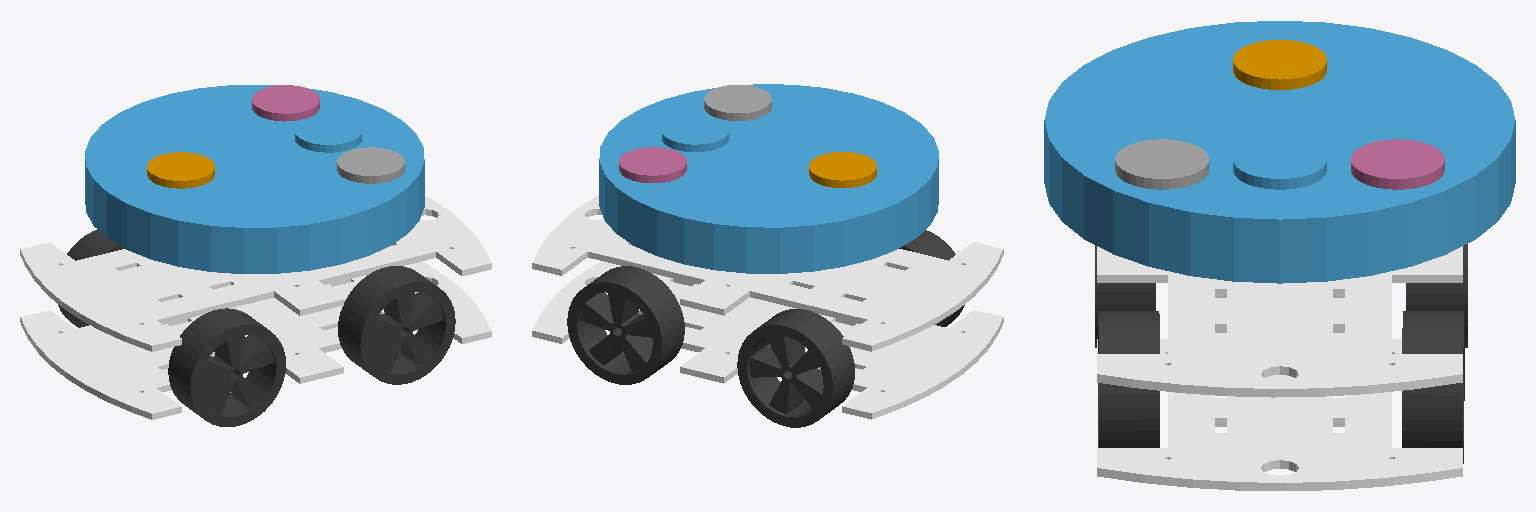
The robot description file, URDF, robot "4wd_gazebo2":
<?xml version="1.0"?>

<robot
  name="4wd_gazebo2">
  <link
    name="base_link">
    <inertial>
      <origin
        xyz="3.8723E-07 -3.7492E-08 -0.024"
        rpy="0 0 0" />
      <mass
        value="0.22645" />
      <inertia
        ixx="0.00040116"
        ixy="1.2926E-19"
        ixz="-2.1963E-19"
        iyy="0.0014173"
        iyz="-3.396E-12"
        izz="0.0015987" />
    </inertial>
    <visual>
      <origin
        xyz="0 0 0"
        rpy="0 0 0" />
      <geometry>
        <mesh
          filename="package://4wd_gazebo2/meshes/base_link.STL" />
      </geometry>
      <material
        name="">
        <color
          rgba="1 1 1 0" />
      </material>
    </visual>
    <collision>
      <origin
        xyz="0 0 0"
        rpy="0 0 0" />
      <geometry>
        <mesh
          filename="package://4wd_gazebo2/meshes/base_link.STL" />
      </geometry>
    </collision>
  </link>


  <link
    name="ir_fornt">
    <visual>
      <origin
        xyz="0 0 0"
        rpy="0 0 0" />
      <geometry>
        <cylinder radius="0.02" length="0.04"/>
      </geometry>
      <material name="red"/>
    </visual>
  </link>

  <joint
    name="ir_fornt_joint"
    type="fixed">
    <origin
      xyz="0.05 0 0.05"

      rpy="0 0 0" />
    <parent
      link="base_link" />
    <child

      link="ir_fornt" />
    <axis
      xyz="0 0 0" />
  </joint>






  <link
    name="FrontLeftWheel">
    <inertial>
      <origin
        xyz="0.0082763 -3.4694E-18 7.8759E-05"
        rpy="0 0 0" />
      <mass
        value="0.051031" />
      <inertia
        ixx="3.3072E-05"
        ixy="1.3377E-21"
        ixz="1.3437E-07"
        iyy="1.8952E-05"
        iyz="-1.2565E-21"
        izz="1.8953E-05" />
    </inertial>
    <visual>
      <origin
        xyz="0 0 0"
        rpy="0 0 0" />
      <geometry>
        <mesh
          filename="package://4wd_gazebo2/meshes/FrontLeftWheel.STL" />
      </geometry>
      <material
        name="">
        <color
          rgba="0.29412 0.29412 0.29412 1" />
      </material>
    </visual>
    <collision>
      <origin
        xyz="0 0 0"
        rpy="0 0 0" />
      <geometry>
        <mesh
          filename="package://4wd_gazebo2/meshes/FrontLeftWheel.STL" />
      </geometry>
    </collision>
  </link>
  <joint
    name="FrontLeftJoint"
    type="continuous">
    <origin
      xyz="0.059411 0.05681 -0.0325"
      rpy="1.5708 3.1329E-17 1.5708" />
    <parent
      link="base_link" />
    <child
      link="FrontLeftWheel" />
    <axis
      xyz="0.99995 0 0.0095158" />
  </joint>
  <link
    name="BackLeftWheel">
    <inertial>
      <origin
        xyz="0.0073659 1.3878E-17 -1.7387E-05"
        rpy="0 0 0" />
      <mass
        value="0.051031" />
      <inertia
        ixx="3.3073E-05"
        ixy="4.4232E-22"
        ixz="-3.3333E-08"
        iyy="1.8952E-05"
        iyz="-1.3666E-21"
        izz="1.8952E-05" />
    </inertial>
    <visual>
      <origin
        xyz="0 0 0"
        rpy="0 0 0" />
      <geometry>
        <mesh
          filename="package://4wd_gazebo2/meshes/BackLeftWheel.STL" />
      </geometry>
      <material
        name="">
        <color
          rgba="0.29412 0.29412 0.29412 1" />
      </material>
    </visual>
    <collision>
      <origin
        xyz="0 0 0"
        rpy="0 0 0" />
      <geometry>
        <mesh
          filename="package://4wd_gazebo2/meshes/BackLeftWheel.STL" />
      </geometry>
    </collision>
  </link>
  <joint
    name="BackLeftJoint"
    type="continuous">
    <origin
      xyz="-0.056785 0.059242 -0.0325"
      rpy="1.5708 3.1329E-17 1.5708" />
    <parent
      link="base_link" />
    <child
      link="BackLeftWheel" />
    <axis
      xyz="1 0 -0.0023605" />
  </joint>
  <link
    name="FrontRightWheel">
    <inertial>
      <origin
        xyz="-0.0081291 8.6736E-18 7.7011E-05"
        rpy="0 0 0" />
      <mass
        value="0.051031" />
      <inertia
        ixx="3.3072E-05"
        ixy="6.8082E-22"
        ixz="-1.3376E-07"
        iyy="1.8952E-05"
        iyz="-4.2618E-22"
        izz="1.8953E-05" />
    </inertial>
    <visual>
      <origin
        xyz="0 0 0"
        rpy="0 0 0" />
      <geometry>
        <mesh
          filename="package://4wd_gazebo2/meshes/FrontRightWheel.STL" />
      </geometry>
      <material
        name="">
        <color
          rgba="0.29412 0.29412 0.29412 1" />
      </material>
    </visual>
    <collision>
      <origin
        xyz="0 0 0"
        rpy="0 0 0" />
      <geometry>
        <mesh
          filename="package://4wd_gazebo2/meshes/FrontRightWheel.STL" />
      </geometry>
    </collision>
  </link>
  <joint
    name="FrontRightJoint"
    type="continuous">
    <origin
      xyz="0.059202 -0.055992 -0.0325"
      rpy="1.5708 3.1329E-17 1.5708" />
    <parent
      link="base_link" />
    <child
      link="FrontRightWheel" />
    <axis
      xyz="0.99996 0 -0.009473" />
  </joint>
  <link
    name="BackRightWheel">
    <inertial>
      <origin
        xyz="-0.0087527 3.4694E-18 1.0709E-05"
        rpy="0 0 0" />
      <mass
        value="0.051031" />
      <inertia
        ixx="3.3073E-05"
        ixy="6.9859E-22"
        ixz="-1.7277E-08"
        iyy="1.8952E-05"
        iyz="-6.4979E-22"
        izz="1.8952E-05" />
    </inertial>
    <visual>
      <origin
        xyz="0 0 0"
        rpy="0 0 0" />
      <geometry>
        <mesh
          filename="package://4wd_gazebo2/meshes/BackRightWheel.STL" />
      </geometry>
      <material
        name="">
        <color
          rgba="0.29412 0.29412 0.29412 1" />
      </material>
    </visual>
    <collision>
      <origin
        xyz="0 0 0"
        rpy="0 0 0" />
      <geometry>
        <mesh
          filename="package://4wd_gazebo2/meshes/BackRightWheel.STL" />
      </geometry>
    </collision>
  </link>
  <joint
    name="BackRightJoint"
    type="continuous">
    <origin
      xyz="-0.056551 -0.056774 -0.0325"
      rpy="1.5708 3.1329E-17 1.5708" />
    <parent
      link="base_link" />
    <child
      link="BackRightWheel" />
    <axis
      xyz="1 0 -0.0012235" />
  </joint>
  
  
  <link
    name="ir_left">
    <visual>
      <origin
        xyz="0 0 0"
        rpy="0 0 0.3926875" />
      <geometry>
        <cylinder radius="0.02" length="0.04"/>
      </geometry>
      <material name="red"/>
    </visual>
  </link>

  <joint
    name="ir_left_joint"
    type="fixed">
    <origin
      xyz="0.05 0.05 0.05"

      rpy="0 0 0.3926875" />
    <parent
      link="base_link" />
    <child

      link="ir_left" />
    <axis
      xyz="0 0 0" />
  </joint>
  
  
  <link
    name="ir_right">
    <visual>
      <origin
        xyz="0 0 0"
        rpy="0 0 -0.3926875" />
      <geometry>
        <cylinder radius="0.02" length="0.04"/>
      </geometry>
      <material name="red"/>
    </visual>
  </link>

  <joint
    name="ir_right_joint"
    type="fixed">
    <origin
      xyz="0.05 -0.05 0.05"

      rpy="0 0 -0.3926875" />
    <parent
      link="base_link" />
    <child

      link="ir_right" />
    <axis
      xyz="0 0 0" />
  </joint>
  
  
  <link
    name="ir_back">
    <visual>
      <origin
        xyz="0 0 0"
        rpy="0 0 3.14159" />
      <geometry>
        <cylinder radius="0.02" length="0.04"/>
      </geometry>
      <material name="red"/>
    </visual>
  </link>

  <joint
    name="ir_back_joint"
    type="fixed">
    <origin
      xyz="-0.05 0 0.05"

      rpy="0 0 3.14159" />
    <parent
      link="base_link" />
    <child

      link="ir_back" />
    <axis
      xyz="0 0 0" />
  </joint>
  
  
  <link
    name="laser_frame">
    <visual>
      <origin
        xyz="0 0 0"
        rpy="0 0 0" />
      <geometry>
        <cylinder radius="0.1" length="0.03"/>
      </geometry>
      <material name="red"/>
    </visual>
  </link>

  <joint
    name="laser_frame_joint"
    type="fixed">
    <origin
      xyz="0 0 0.05"

      rpy="0 0 0" />
    <parent
      link="base_link" />
    <child

      link="laser_frame" />
    <axis
      xyz="0 0 0" />
  </joint>
  
  

        <gazebo>
	  <plugin name="skid_steer_drive_controller" filename="libgazebo_ros_skid_steer_drive.so">
	    <updateRate>100.0</updateRate>
	    <robotNamespace></robotNamespace>
	    <leftFrontJoint>FrontLeftJoint</leftFrontJoint>
	    <rightFrontJoint>FrontRightJoint</rightFrontJoint>
	    <leftRearJoint>BackLeftJoint</leftRearJoint>
	    <rightRearJoint>BackRightJoint</rightRearJoint>
	    <wheelSeparation>0.4</wheelSeparation>
	    <wheelDiameter>0.215</wheelDiameter>
	    <robotBaseFrame>base_link</robotBaseFrame>
	    <torque>20</torque>
	    <topicName>cmd_vel</topicName>
	    <broadcastTF>true</broadcastTF>
	  </plugin>
	</gazebo>



<!-- Loading gazebo sensor (laser scanner) plugin and connecting it to the laser scanner link -->
   <gazebo reference="ir_fornt">        
   <sensor type="ray" name="ir_front_sensor">
      <pose>0 0 0 0 0 0</pose>
      <update_rate>50</update_rate>
      <ray>
         <scan>
            <horizontal>
               <samples>1</samples>
               <resolution>1.0</resolution>
               <min_angle>-0.01</min_angle>
               <max_angle>0.01</max_angle>
            </horizontal>
            <vertical>
               <samples>1</samples>
               <resolution>1</resolution>
               <min_angle>-0.01</min_angle>
               <max_angle>0.01</max_angle>
            </vertical>
         </scan>
         <range>
            <min>0.02</min>
            <max>0.3</max>
            <resolution>0.01</resolution>
         </range>
      </ray>
      <plugin filename="libgazebo_ros_range.so" name="gazebo_ros_range">
         <gaussianNoise>0.005</gaussianNoise>
         <alwaysOn>true</alwaysOn>
         <updateRate>5</updateRate>
         <topicName>/arduino/sensor/ir_front</topicName>
         <frameName>ir_fornt</frameName>
         <visualize>true</visualize>
         <radiation>ultrasound</radiation>
         <fov>0.02</fov>
      </plugin>
   </sensor>            
</gazebo>


<gazebo reference="ir_left">        
   <sensor type="ray" name="ir_left_sensor">
      <pose>0 0 0 0 0 0</pose>
      <update_rate>50</update_rate>
      <ray>
         <scan>
            <horizontal>
               <samples>1</samples>
               <resolution>1.0</resolution>
               <min_angle>-0.01</min_angle>
               <max_angle>0.01</max_angle>
            </horizontal>
            <vertical>
               <samples>1</samples>
               <resolution>1</resolution>
               <min_angle>-0.01</min_angle>
               <max_angle>0.01</max_angle>
            </vertical>
         </scan>
         <range>
            <min>0.02</min>
            <max>0.3</max>
            <resolution>0.01</resolution>
         </range>
      </ray>
      <plugin filename="libgazebo_ros_range.so" name="gazebo_ros_range">
         <gaussianNoise>0.005</gaussianNoise>
         <alwaysOn>true</alwaysOn>
         <updateRate>5</updateRate>
         <topicName>/arduino/sensor/ir_left</topicName>
         <frameName>ir_left</frameName>
         <visualize>true</visualize>
         <radiation>ultrasound</radiation>
         <fov>0.02</fov>
      </plugin>
   </sensor>            
</gazebo>



<gazebo reference="ir_right">        
   <sensor type="ray" name="ir_right_sensor">
      <pose>0 0 0 0 0 0</pose>
      <update_rate>50</update_rate>
      <ray>
         <scan>
            <horizontal>
               <samples>1</samples>
               <resolution>1.0</resolution>
               <min_angle>-0.01</min_angle>
               <max_angle>0.01</max_angle>
            </horizontal>
            <vertical>
               <samples>1</samples>
               <resolution>1</resolution>
               <min_angle>-0.01</min_angle>
               <max_angle>0.01</max_angle>
            </vertical>
         </scan>
         <range>
            <min>0.02</min>
            <max>0.3</max>
            <resolution>0.01</resolution>
         </range>
      </ray>
      <plugin filename="libgazebo_ros_range.so" name="gazebo_ros_range">
         <gaussianNoise>0.005</gaussianNoise>
         <alwaysOn>true</alwaysOn>
         <updateRate>5</updateRate>
         <topicName>/arduino/sensor/ir_right</topicName>
         <frameName>ir_right</frameName>
         <visualize>true</visualize>
         <radiation>ultrasound</radiation>
         <fov>0.02</fov>
      </plugin>
   </sensor>            
</gazebo>



<gazebo reference="ir_back">        
   <sensor type="ray" name="ir_back_sensor">
      <pose>0 0 0 0 0 0</pose>
      <update_rate>50</update_rate>
      <ray>
         <scan>
            <horizontal>
               <samples>1</samples>
               <resolution>1.0</resolution>
               <min_angle>-0.01</min_angle>
               <max_angle>0.01</max_angle>
            </horizontal>
            <vertical>
               <samples>1</samples>
               <resolution>1</resolution>
               <min_angle>-0.01</min_angle>
               <max_angle>0.01</max_angle>
            </vertical>
         </scan>
         <range>
            <min>0.02</min>
            <max>0.3</max>
            <resolution>0.01</resolution>
         </range>
      </ray>
      <plugin filename="libgazebo_ros_range.so" name="gazebo_ros_range">
         <gaussianNoise>0.005</gaussianNoise>
         <alwaysOn>true</alwaysOn>
         <updateRate>5</updateRate>
         <topicName>/arduino/sensor/ir_back</topicName>
         <frameName>ir_back</frameName>
         <visualize>true</visualize>
         <radiation>ultrasound</radiation>
         <fov>0.02</fov>
      </plugin>
   </sensor>            
</gazebo>

  
</robot>

--- Facts derived from the render (not from the file) ---
Views: 3 orthographic renders of the robot side by side, from view 1: azimuth 30°, elevation 25°; view 2: azimuth 150°, elevation 25°; view 3: azimuth 270°, elevation 25°.
Model 4wd_gazebo2 with 10 links and 9 joints (4 continuous, 5 fixed), rooted at base_link, posed every joint at zero.
Visible links, largest first — view 1: laser_frame, base_link, FrontRightWheel, BackRightWheel, ir_right, ir_back, ir_left, ir_fornt, BackLeftWheel; view 2: laser_frame, base_link, FrontLeftWheel, BackLeftWheel, ir_right, ir_back, ir_left, ir_fornt, BackRightWheel; view 3: laser_frame, base_link, FrontLeftWheel, FrontRightWheel, ir_fornt, ir_back, ir_left, ir_right, BackLeftWheel, BackRightWheel.
Link boxes in pixels (bbox=[...]): laser_frame: bbox=[85, 85, 424, 273]; base_link: bbox=[20, 196, 491, 419]; FrontRightWheel: bbox=[338, 266, 455, 384]; BackRightWheel: bbox=[168, 308, 285, 426]; ir_right: bbox=[337, 147, 404, 183]; ir_back: bbox=[147, 152, 214, 188]; ir_left: bbox=[252, 85, 319, 121]; ir_fornt: bbox=[295, 116, 361, 152]; BackLeftWheel: bbox=[58, 229, 123, 327]; laser_frame: bbox=[599, 84, 938, 273]; base_link: bbox=[532, 195, 1003, 419]; FrontLeftWheel: bbox=[567, 266, 684, 384]; BackLeftWheel: bbox=[737, 309, 854, 427]; ir_right: bbox=[704, 85, 771, 120]; ir_back: bbox=[809, 152, 876, 187]; ir_left: bbox=[619, 147, 686, 182]; ir_fornt: bbox=[662, 116, 728, 151]; BackRightWheel: bbox=[899, 230, 964, 326]; laser_frame: bbox=[1044, 21, 1515, 283]; base_link: bbox=[1097, 246, 1462, 490]; FrontLeftWheel: bbox=[1402, 311, 1464, 463]; FrontRightWheel: bbox=[1098, 311, 1159, 447]; ir_fornt: bbox=[1233, 139, 1326, 189]; ir_back: bbox=[1233, 40, 1326, 89]; ir_left: bbox=[1351, 139, 1444, 189]; ir_right: bbox=[1115, 139, 1208, 189]; BackLeftWheel: bbox=[1406, 244, 1467, 347]; BackRightWheel: bbox=[1095, 245, 1155, 347].
Size in the robot's own frame: 0.26 by 0.2 by 0.1349 metres.
Meshes: 5 distinct files referenced, 5 mesh visuals loaded (5 binary STL).
